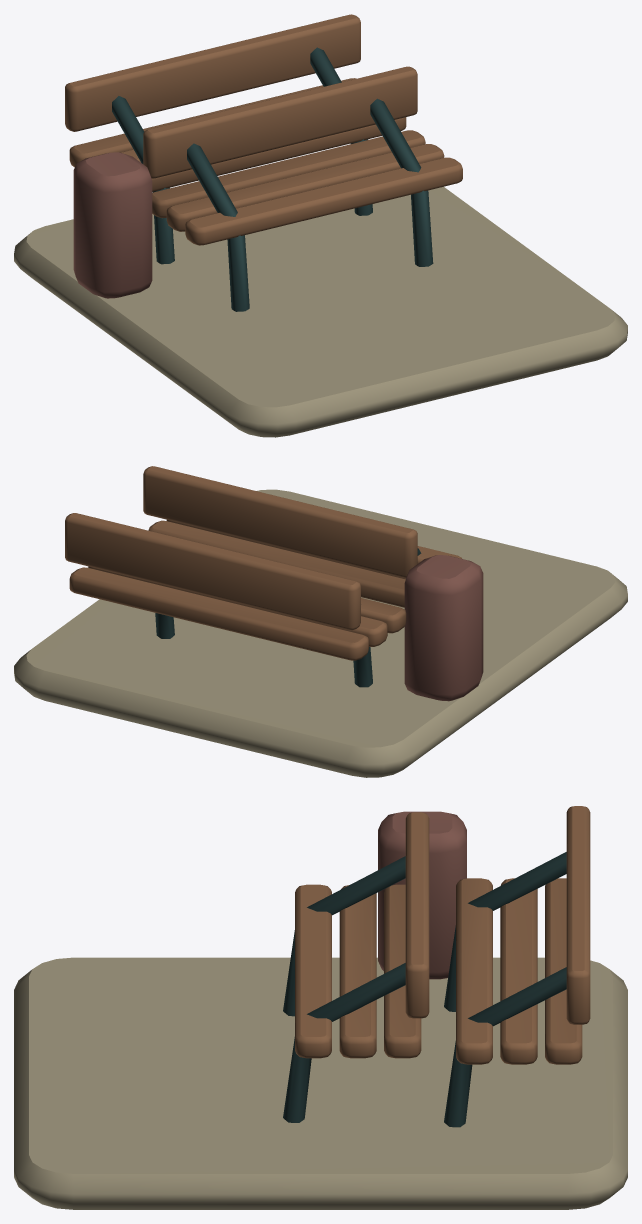
The model's file is showers_works_1.glb.
3 renders of one model, top to bottom at view 1: azimuth 30°, elevation 25°; view 2: azimuth 150°, elevation 25°; view 3: azimuth 270°, elevation 25°, orthographic. The views are drawn at different scales.
Parts seen in each view (by area): view 1: ShowersWorks1; view 2: ShowersWorks1; view 3: ShowersWorks1.
Boxes of the visible parts, x1,y1,x2,y2 form: ShowersWorks1: (14, 14, 627, 437); ShowersWorks1: (14, 466, 627, 777); ShowersWorks1: (14, 806, 627, 1209).
Bounding box in the file's own units: 2.19 × 0.95 × 2.48.
